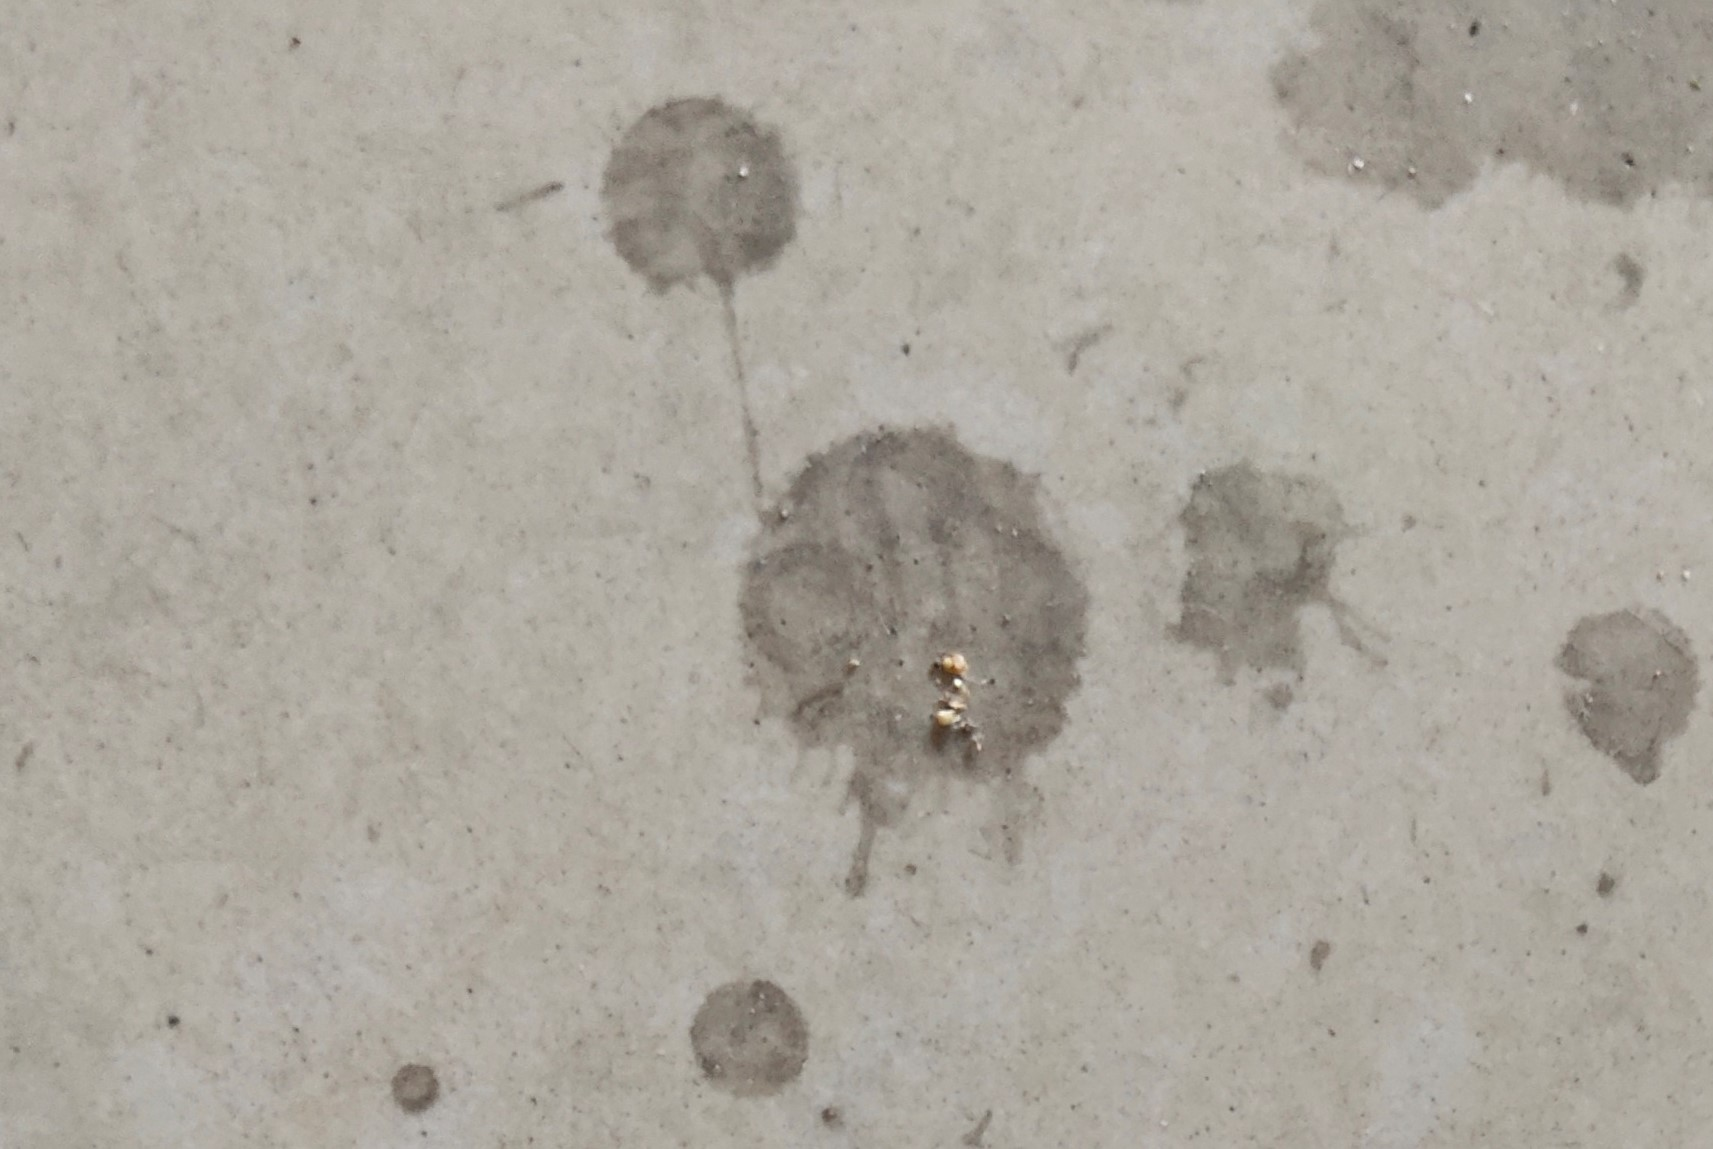grey spot: (739, 422, 1092, 893), (1272, 5, 1713, 213), (1162, 465, 1389, 713), (603, 96, 796, 295), (1551, 610, 1699, 787), (690, 981, 809, 1098), (391, 1062, 437, 1114)
